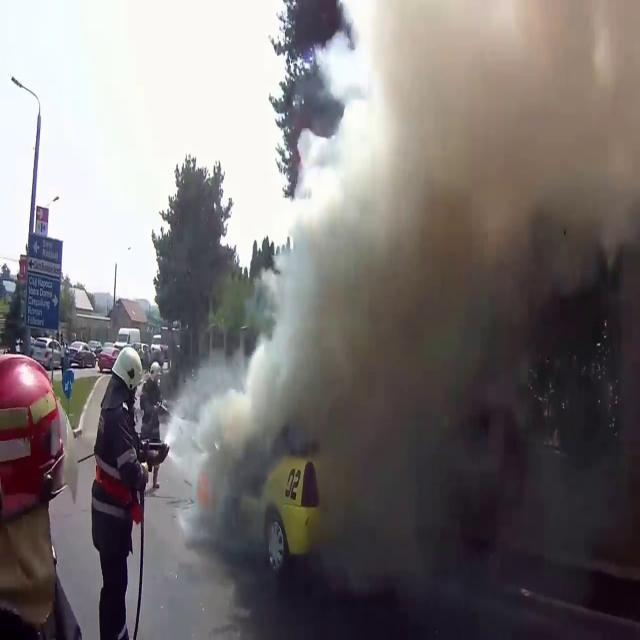Smoke: (192, 1, 640, 566)
